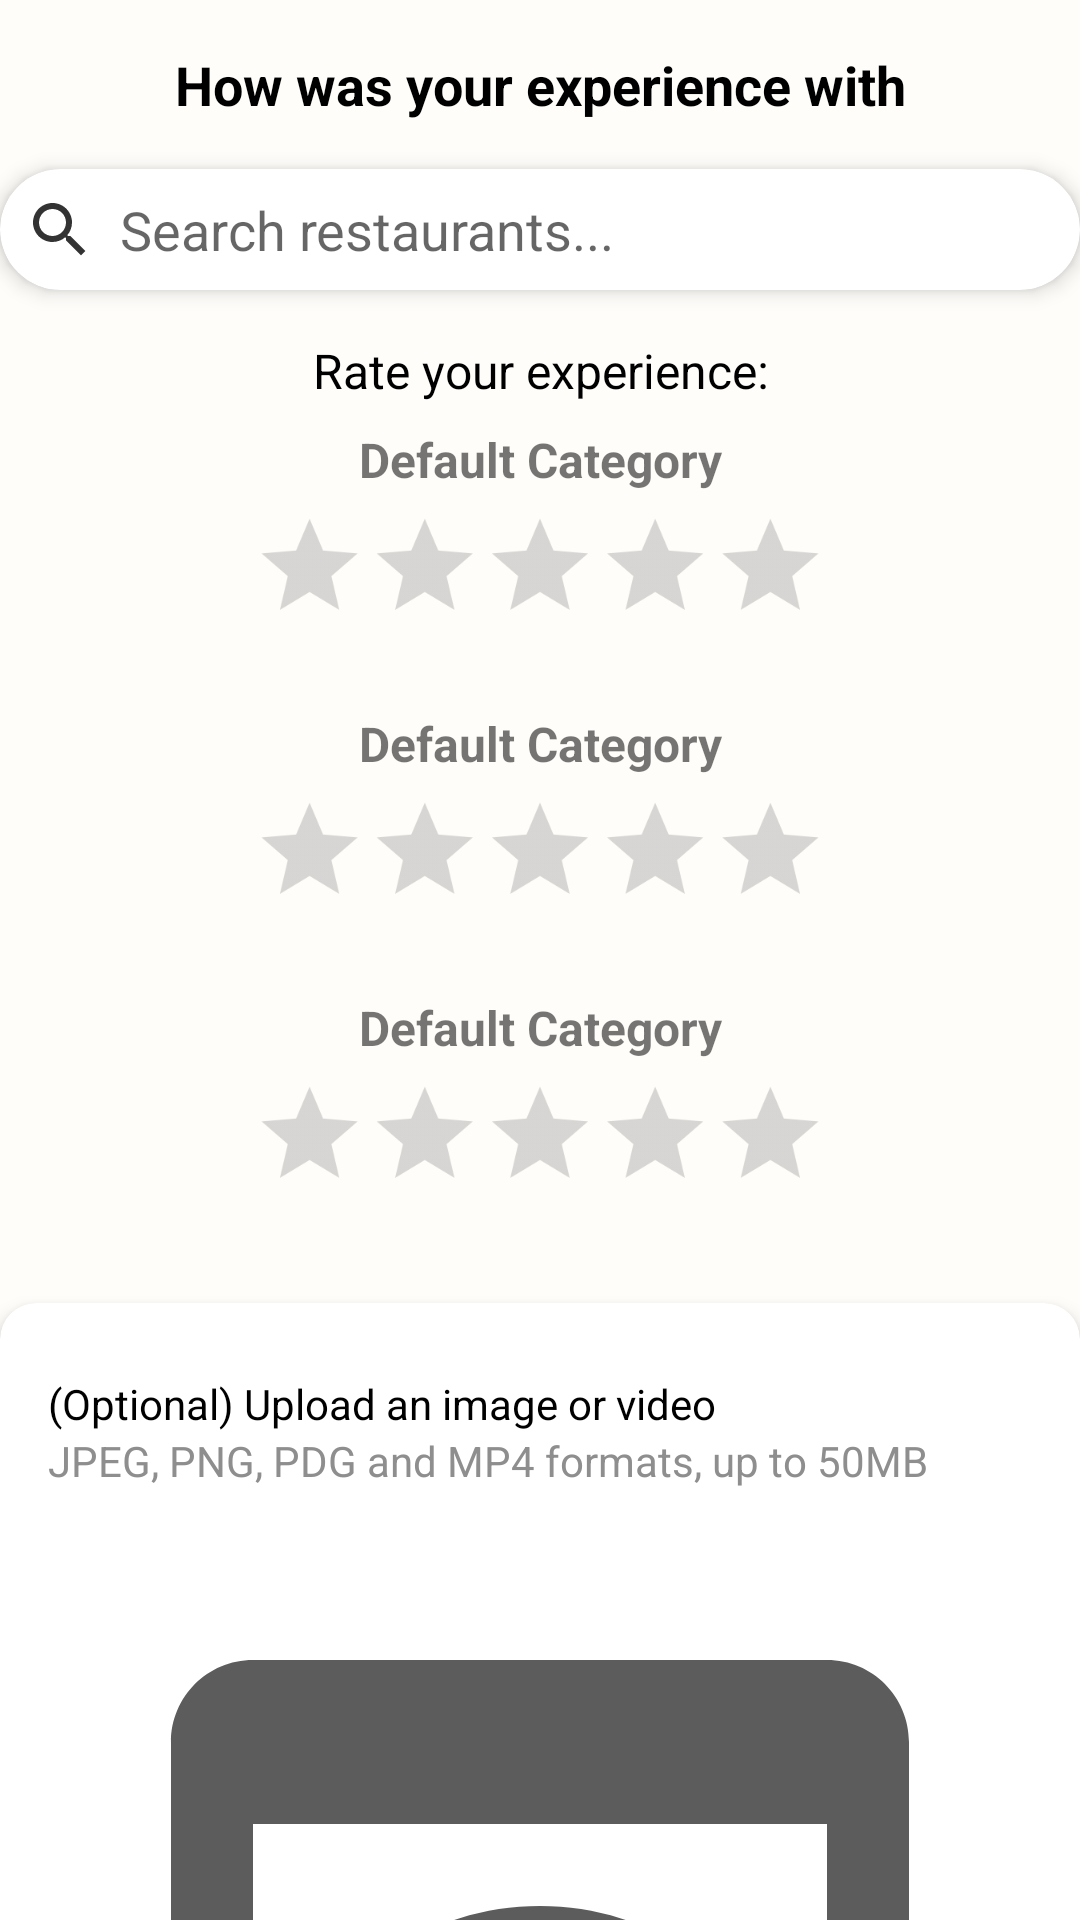

Where icons sit on this 1080×1920 app screen, as [x1, y1, x2, y2]:
searchicon: [33, 203, 85, 255]
